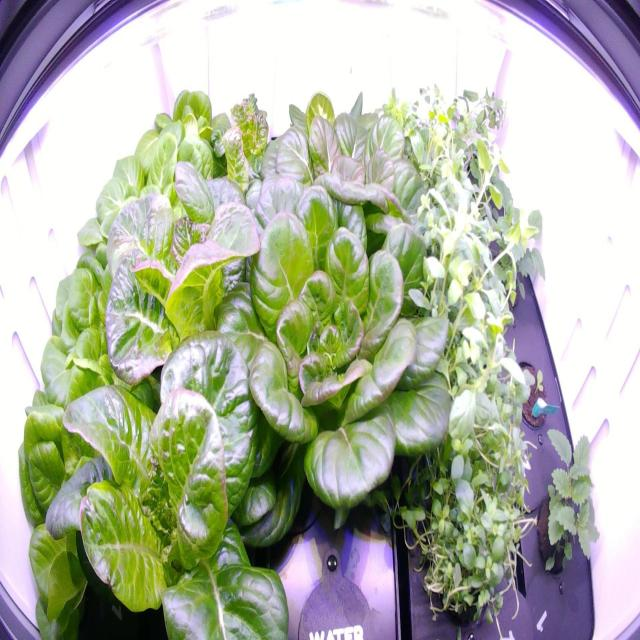Ready: (43, 281, 300, 639), (228, 174, 468, 542), (96, 149, 274, 398), (245, 88, 428, 279)
germination: (505, 350, 557, 435)
young: (14, 367, 158, 638), (28, 208, 159, 424), (72, 128, 200, 290), (122, 79, 234, 206), (204, 82, 282, 196)
